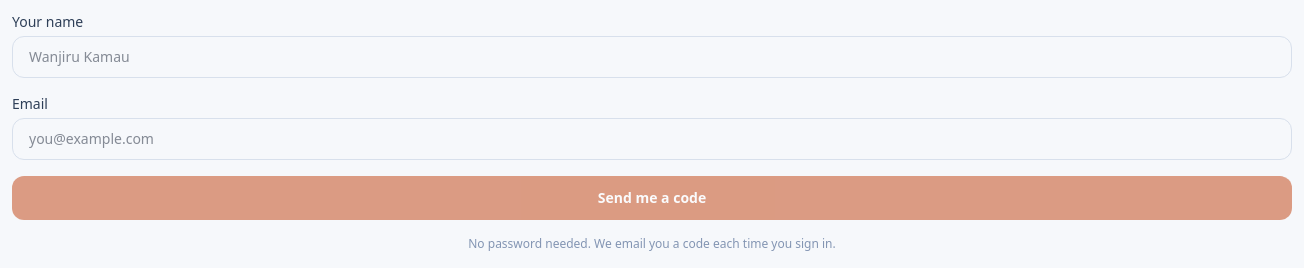
Test: JoinForm › moves to the code step once a code has been sent
Type "ada@example.com" into the field labelled "Email" at (652, 139), box [12, 118, 1292, 160]
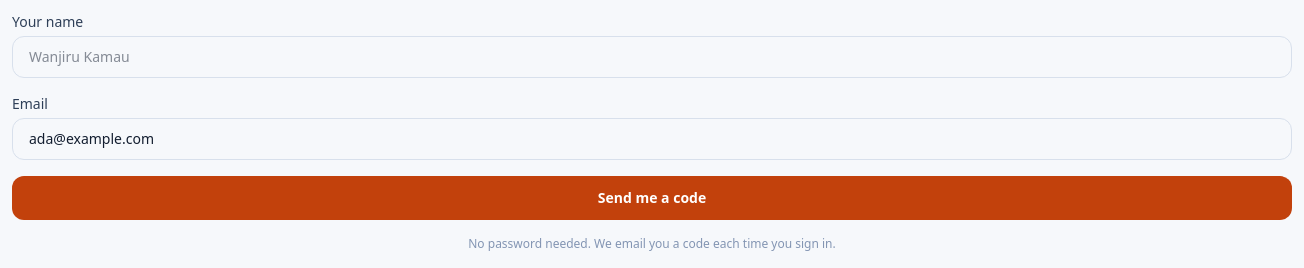
Click the button "Send me a code" at (652, 198), box [12, 176, 1292, 220]
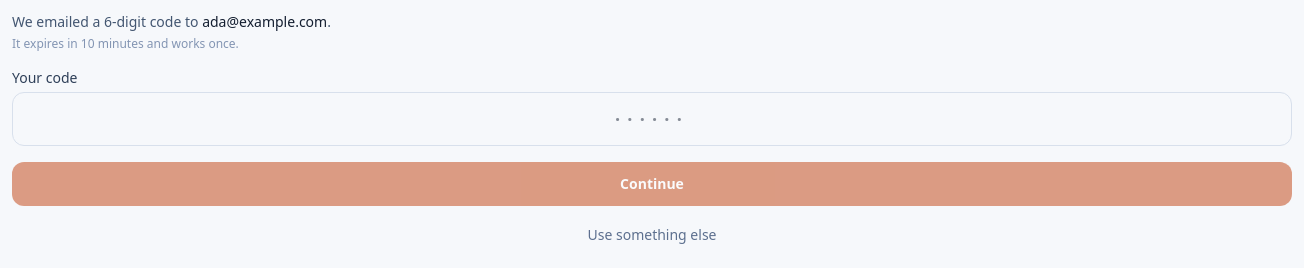
Expected: the field labelled "Your code" is shown, [12, 92, 1292, 146]
Result: the text "ada@example.com" is shown at [202, 12, 327, 31]
